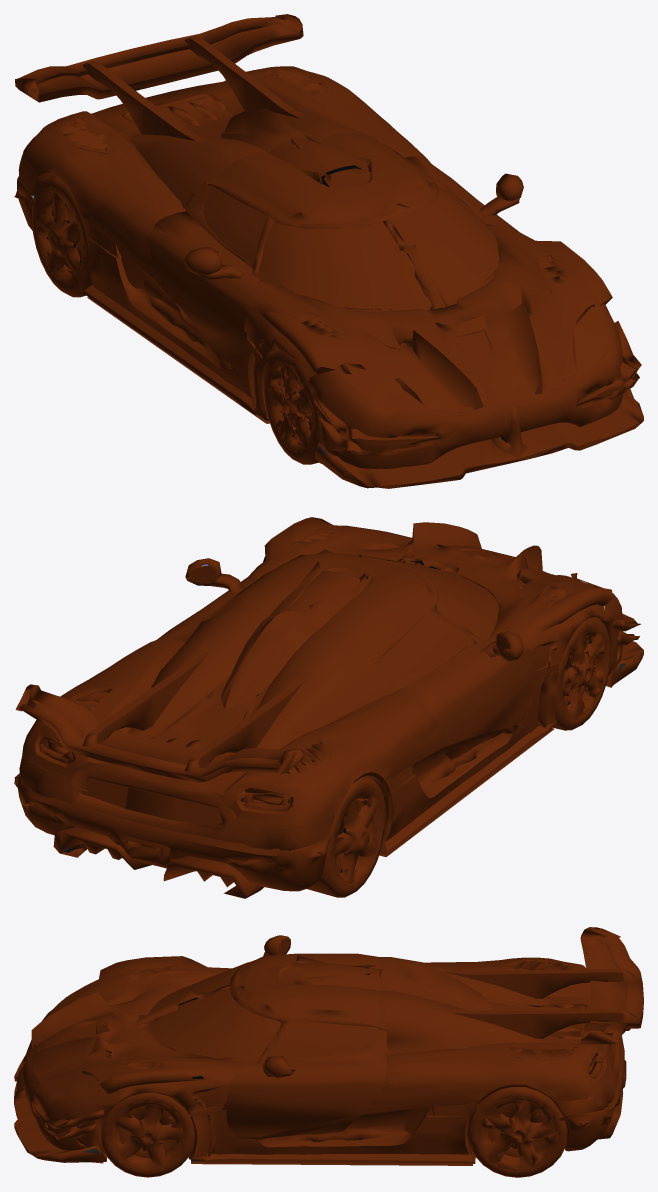
File: Car_1_Mud.fbx
3 views of the same model, one above another, from view 1: azimuth 30°, elevation 25°; view 2: azimuth 150°, elevation 25°; view 3: azimuth 270°, elevation 25° (orthographic). The views are drawn at different scales.
Parts seen in each view (by area): view 1: mud; view 2: mud; view 3: mud.
Part boxes in pixels (bbox=[...]): mud: bbox=[14, 14, 643, 488]; mud: bbox=[14, 517, 643, 898]; mud: bbox=[14, 927, 643, 1177].
Size of the model in its own units: 1899 by 1064 by 3850.
